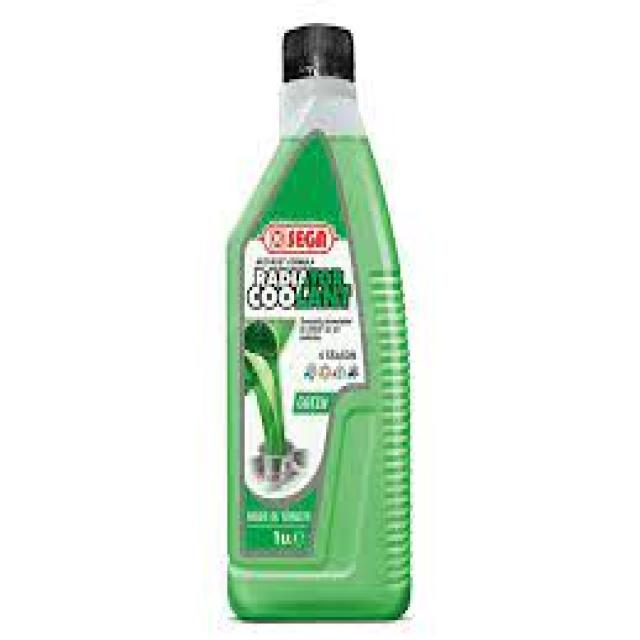coolant: (221, 19, 412, 628)
